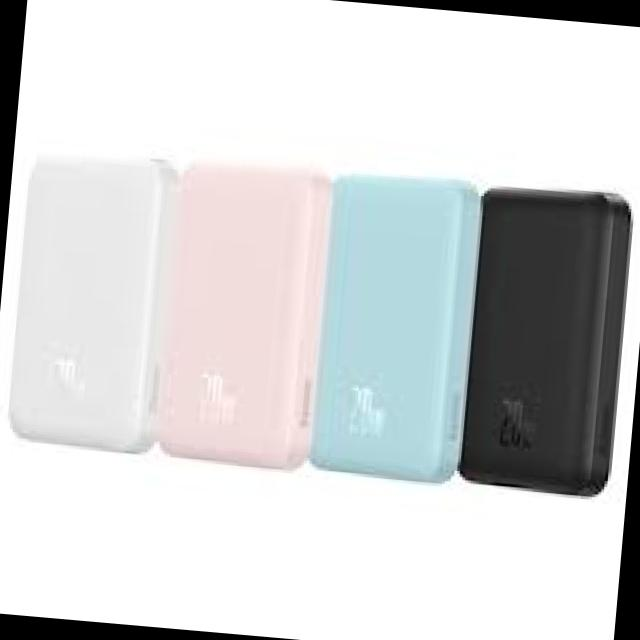portable-charger: (147, 156, 336, 471), (456, 182, 636, 499), (2, 146, 178, 462), (312, 170, 483, 482)
